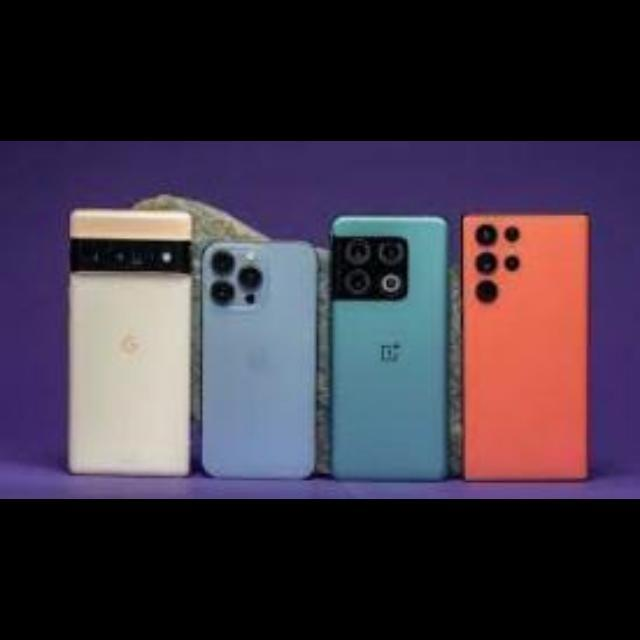Phone: (462, 214, 590, 478), (68, 210, 188, 476), (332, 214, 450, 482), (202, 240, 314, 480)
